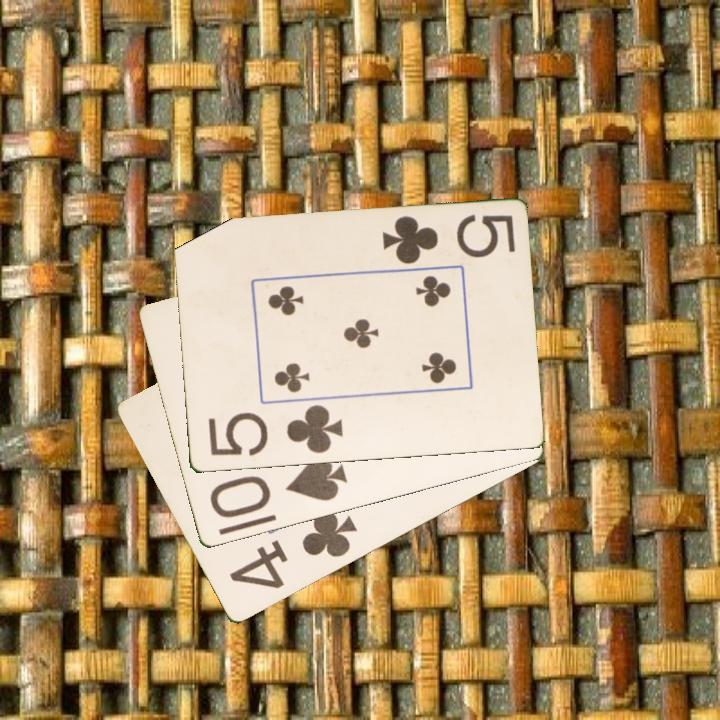10s: (206, 454, 350, 522)
4c: (225, 507, 360, 593)
5c: (204, 401, 346, 460), (378, 211, 518, 268)
